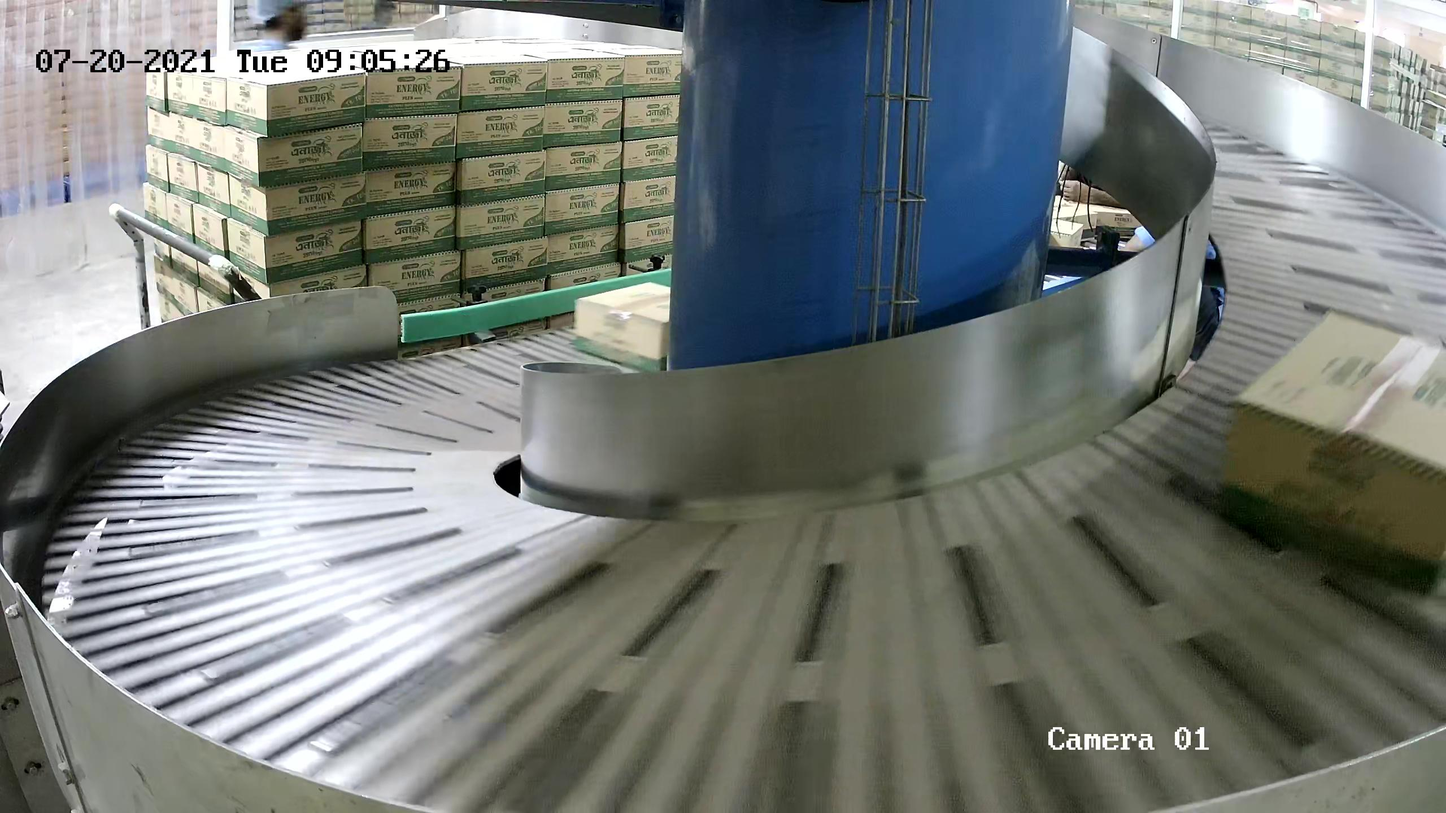Box: (1212, 304, 1446, 597), (573, 281, 712, 376)
